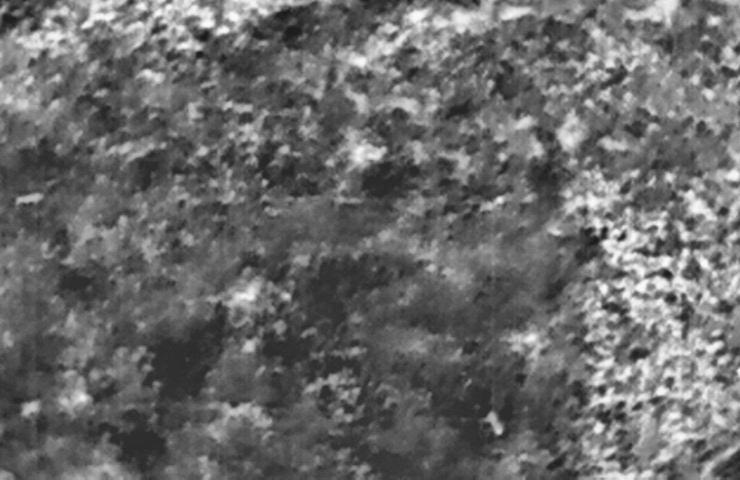landmines: (218, 271, 281, 320)
